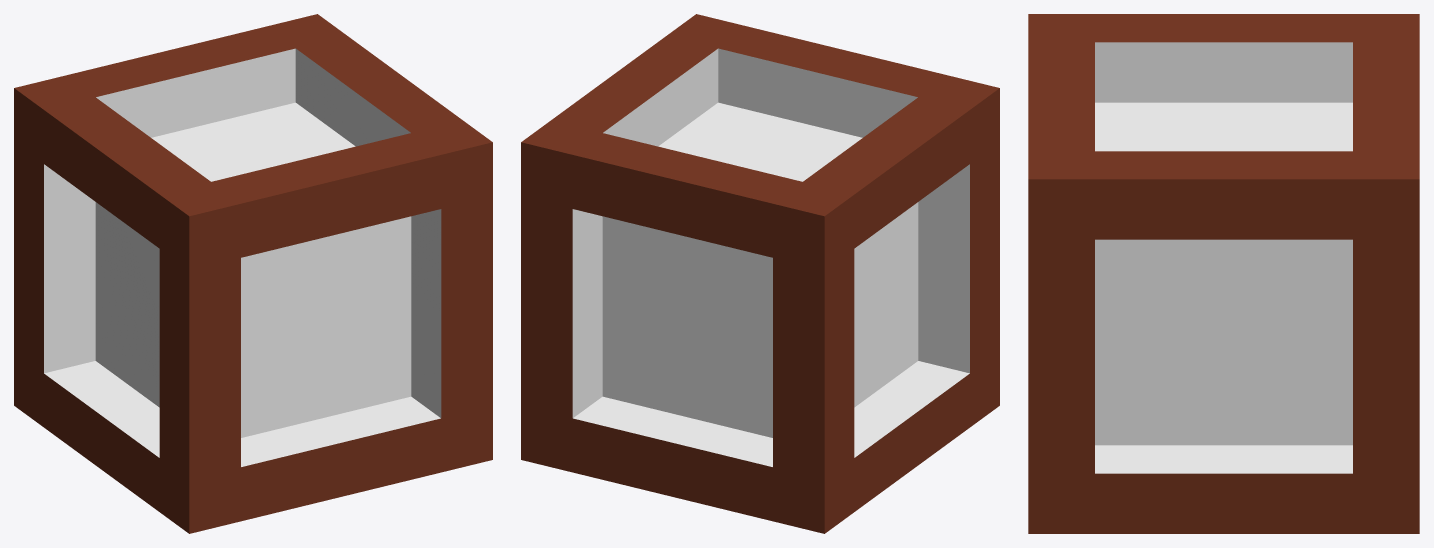
File: jap10.fbx
3 renders of one model, left to right at view 1: azimuth 30°, elevation 25°; view 2: azimuth 150°, elevation 25°; view 3: azimuth 270°, elevation 25°, orthographic. The views are drawn at different scales.
Visible parts, largest first — view 1: Cube; view 2: Cube; view 3: Cube.
Part boxes in pixels (bbox=[...]): Cube: bbox=[14, 14, 492, 533]; Cube: bbox=[521, 14, 999, 533]; Cube: bbox=[1028, 14, 1419, 533].
Size of the model in its own units: 257 by 257 by 257.
